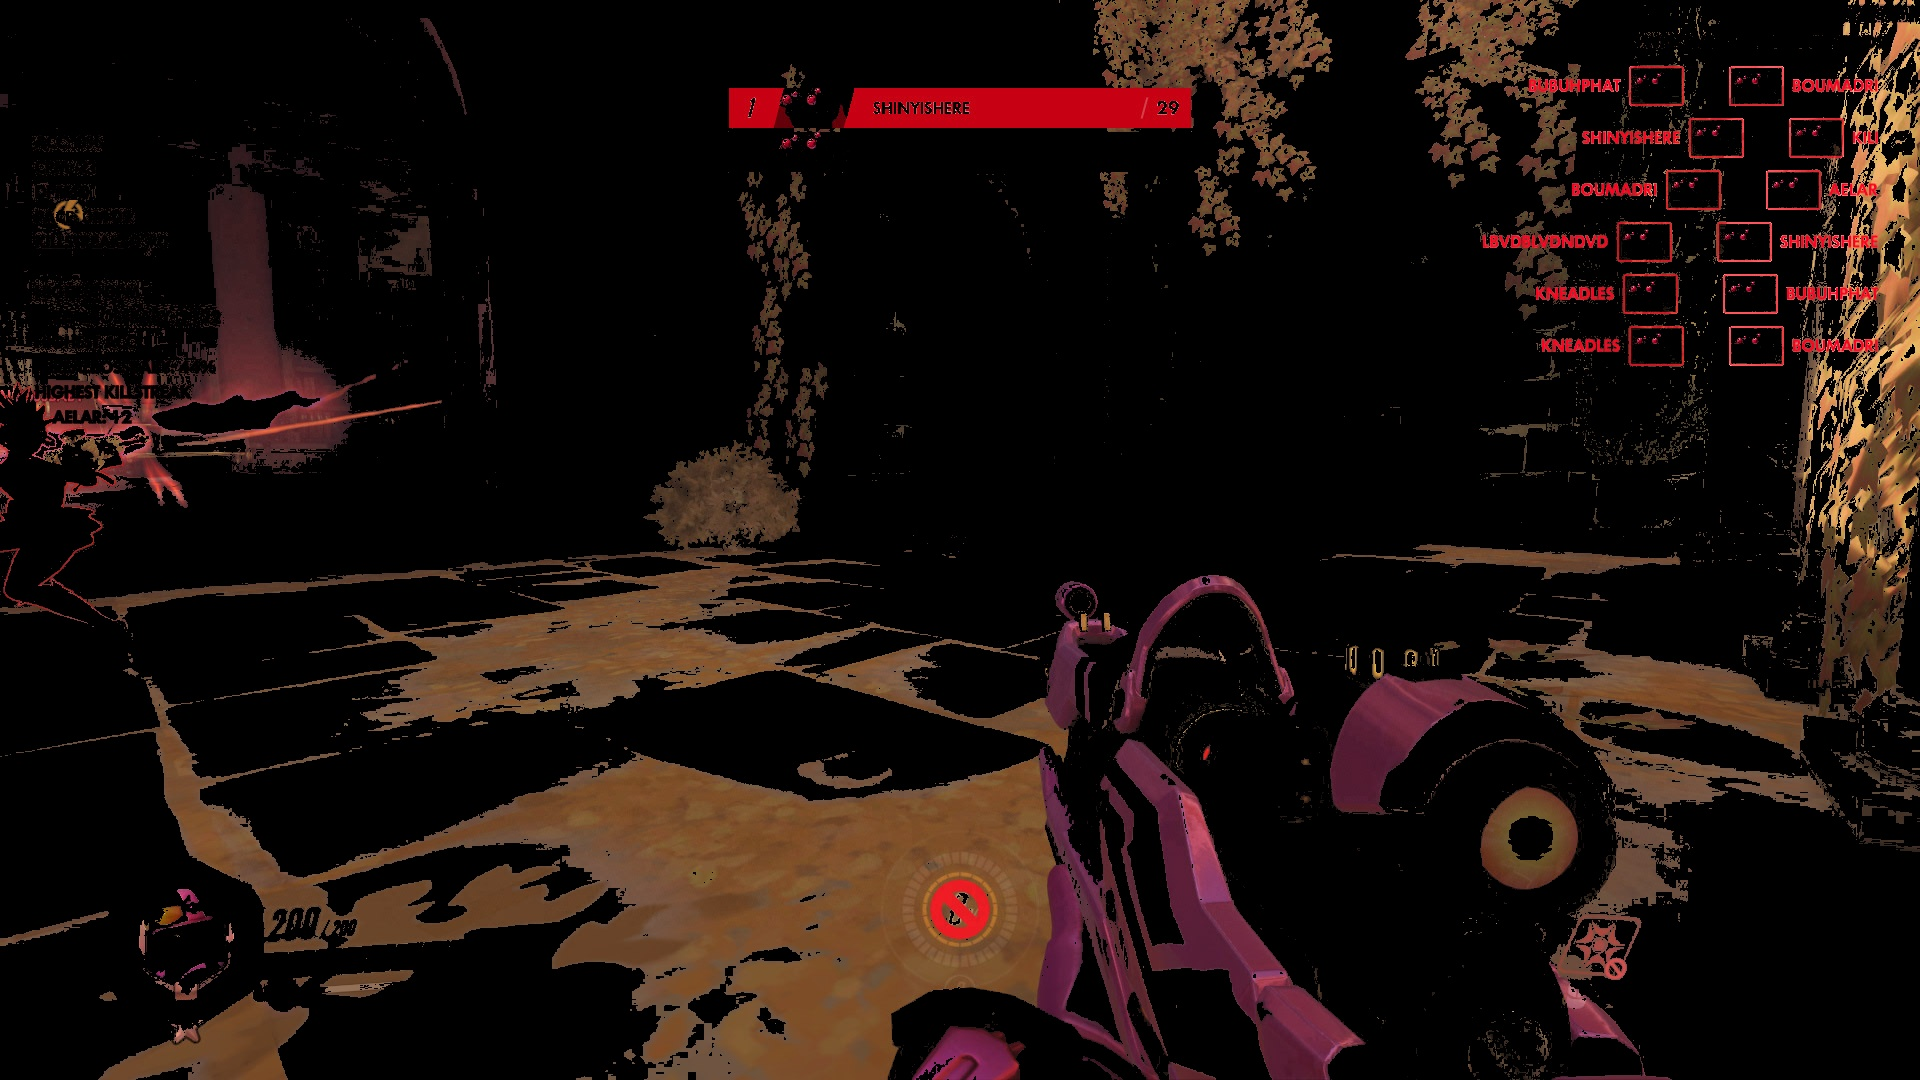widowmaker: (1, 392, 135, 657)
